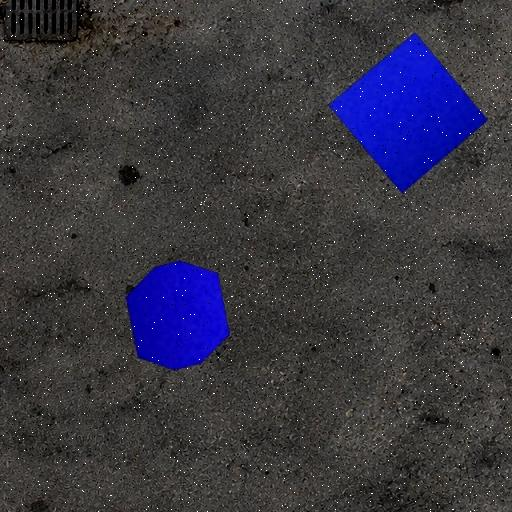BLUE_SQUARE: (327, 32, 488, 194)
